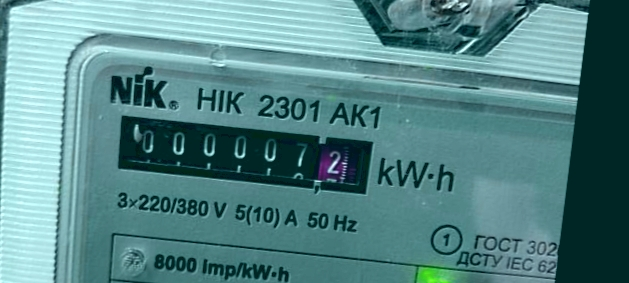0: (196, 133, 218, 162), (166, 131, 187, 161), (135, 129, 156, 158), (258, 138, 278, 167), (228, 135, 247, 163)
2: (322, 150, 342, 180)
7: (288, 142, 307, 173)
screen: (104, 104, 384, 209)
